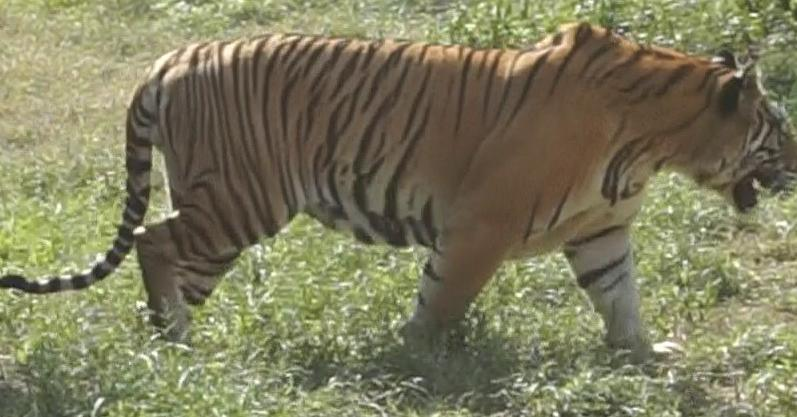tiger: (0, 23, 796, 351)
